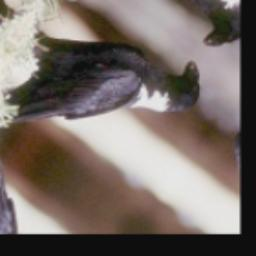Crow: (0, 0, 220, 217)
